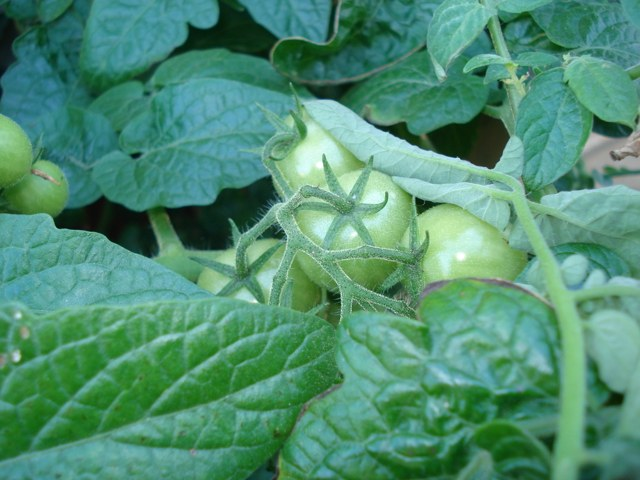tomato: (295, 167, 410, 293), (396, 201, 527, 281), (272, 104, 365, 203), (196, 237, 320, 311), (2, 158, 69, 215), (0, 111, 33, 185)
